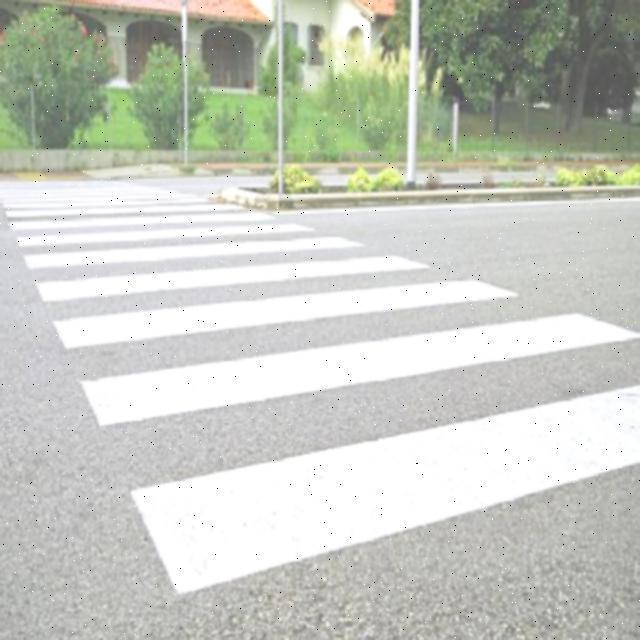Pedestrian crosswalk: (1, 182, 621, 622)
